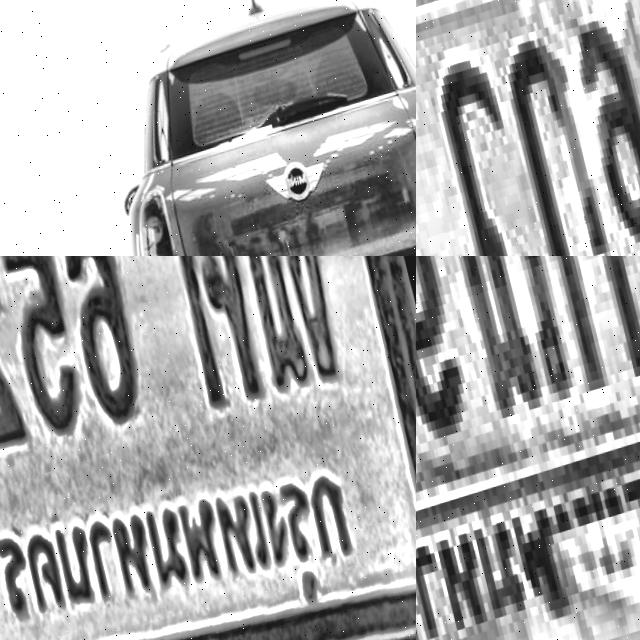license-plate: (0, 256, 416, 640), (416, 256, 640, 640), (416, 0, 640, 256)
